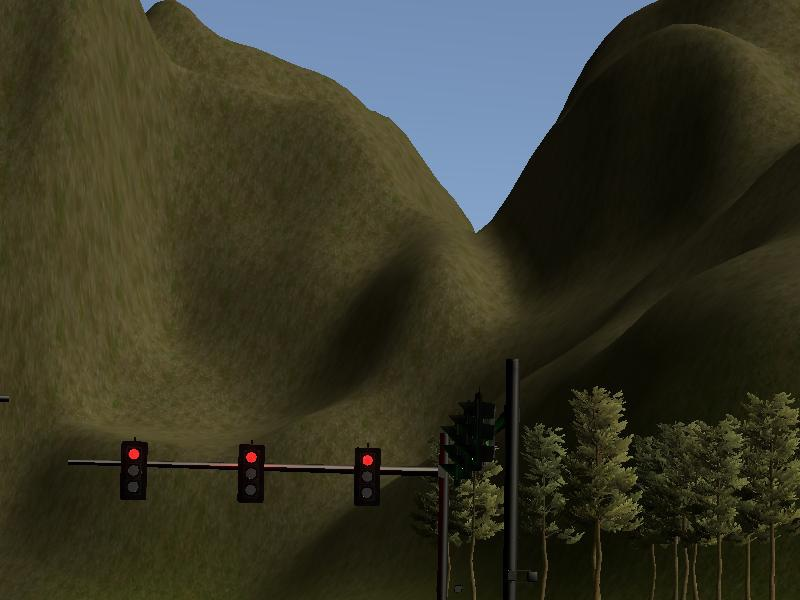Red: (353, 449, 381, 508), (236, 444, 264, 503), (119, 439, 147, 498)
